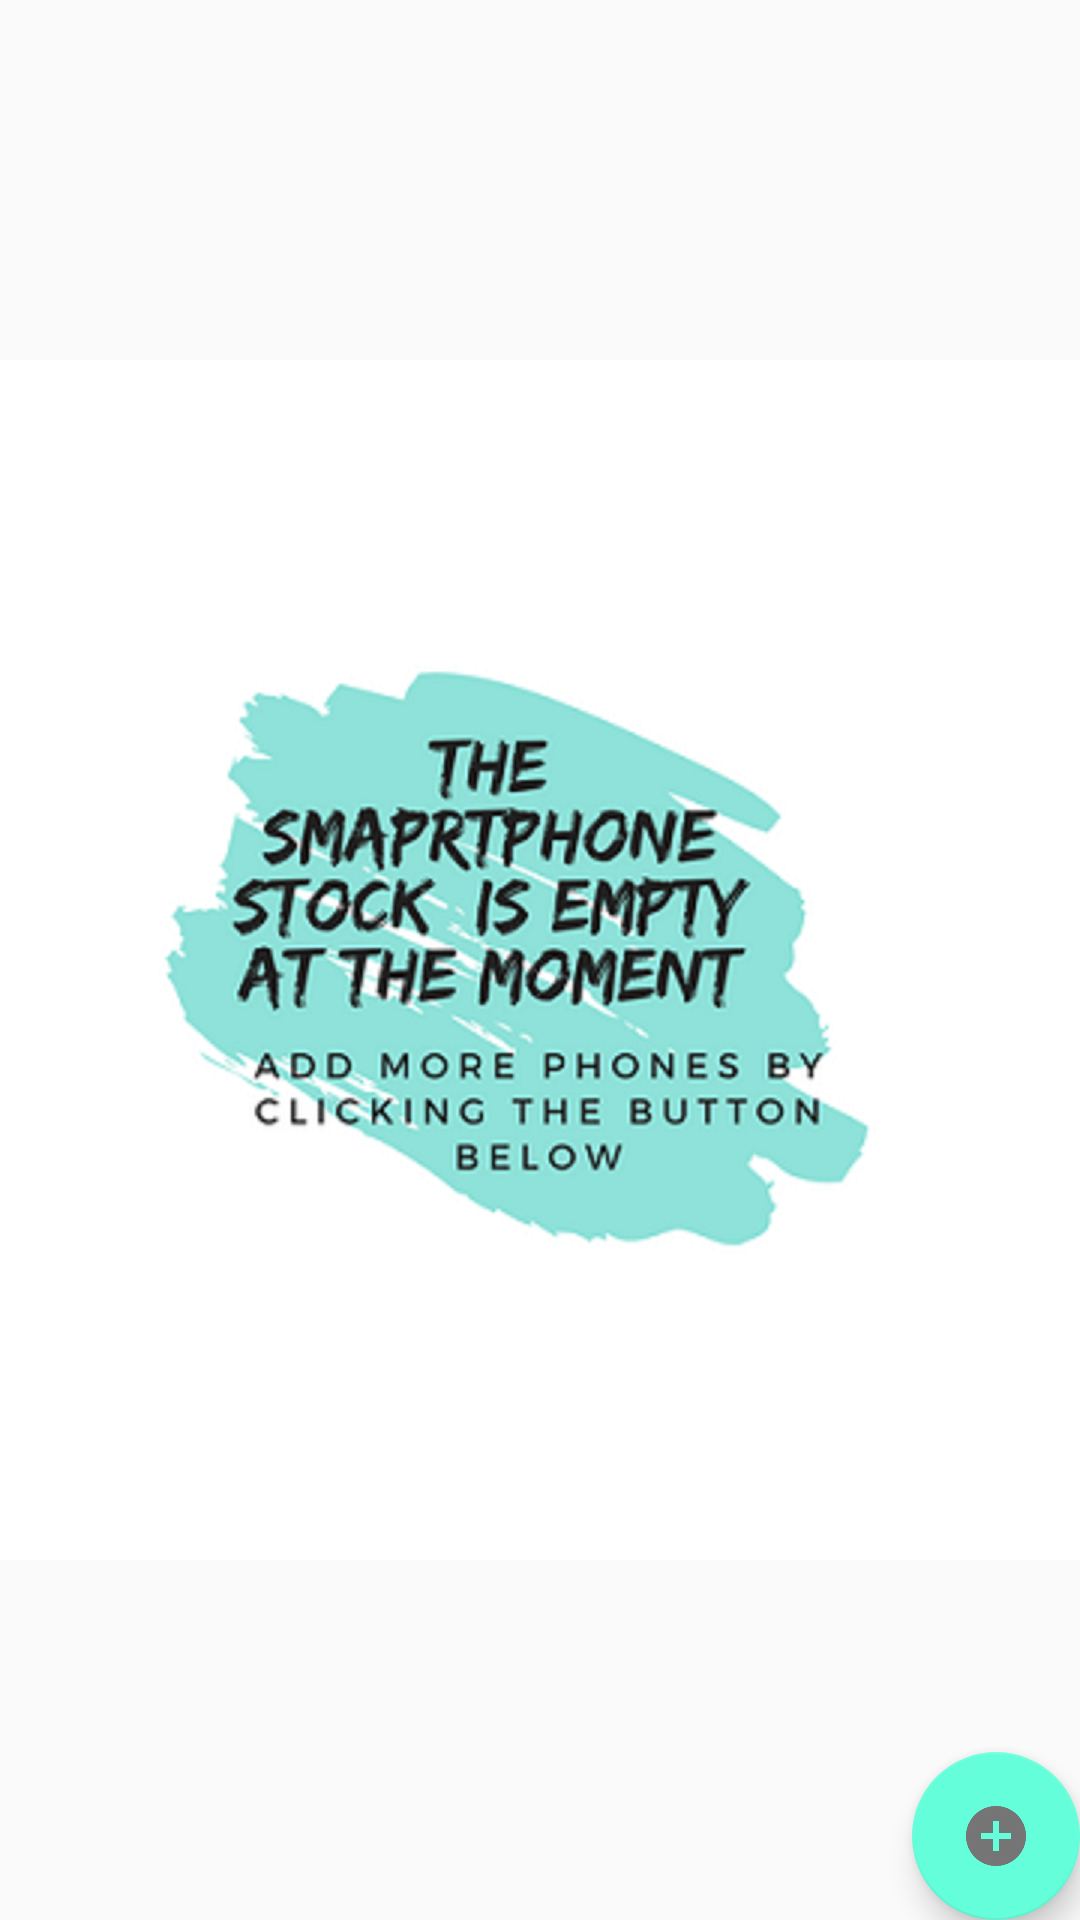

Locate icon controls on the screen. Image size 1080 × 1920, boxes as (x1, y1, x2, y2).
plus: (912, 1752, 1080, 1920)
